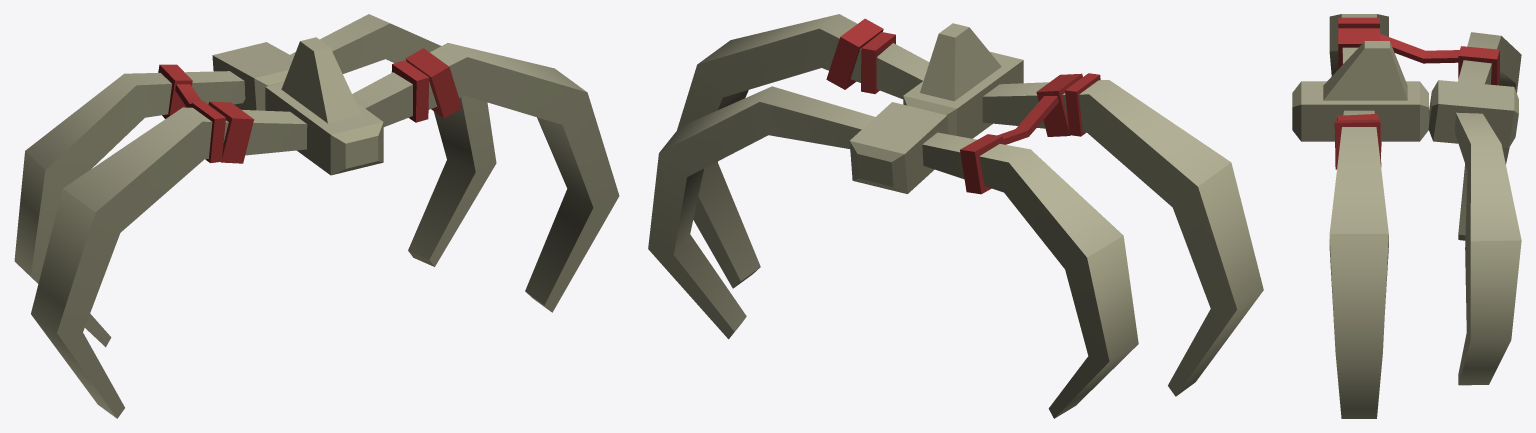
Rendered from SF_Bld_Goblin_Ribcage_02.fbx.
3 views of the same model, side by side, from view 1: azimuth 30°, elevation 25°; view 2: azimuth 150°, elevation 25°; view 3: azimuth 270°, elevation 25° (orthographic). The views are drawn at different scales.
Visible parts, largest first — view 1: SF_Bld_Goblin_Ribcage_02; view 2: SF_Bld_Goblin_Ribcage_02; view 3: SF_Bld_Goblin_Ribcage_02.
Boxes of the visible parts, x1,y1,x2,y2 form: SF_Bld_Goblin_Ribcage_02: (14,14,619,418); SF_Bld_Goblin_Ribcage_02: (648,14,1263,418); SF_Bld_Goblin_Ribcage_02: (1292,14,1521,418).
Size of the model in its own units: 24.73 by 12.9 by 9.64.
